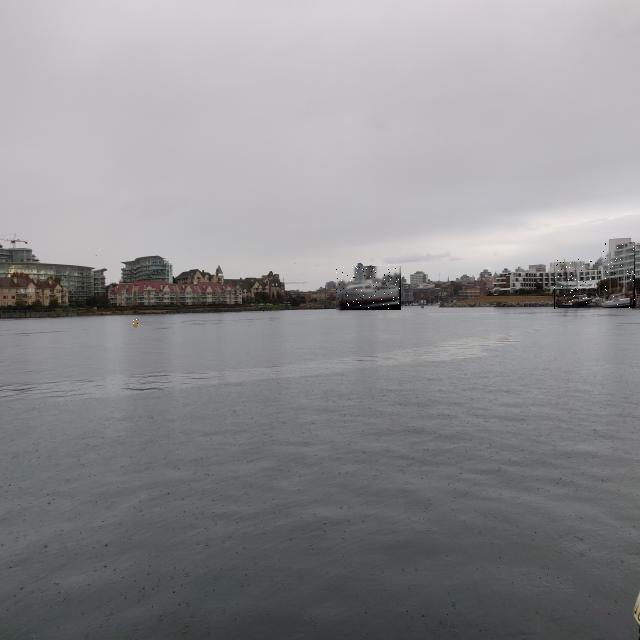boat: (336, 266, 401, 310), (602, 242, 635, 308), (554, 258, 592, 309)
mark: (133, 319, 139, 327), (421, 294, 424, 308), (146, 312, 148, 315), (262, 309, 264, 312), (373, 308, 375, 311)
